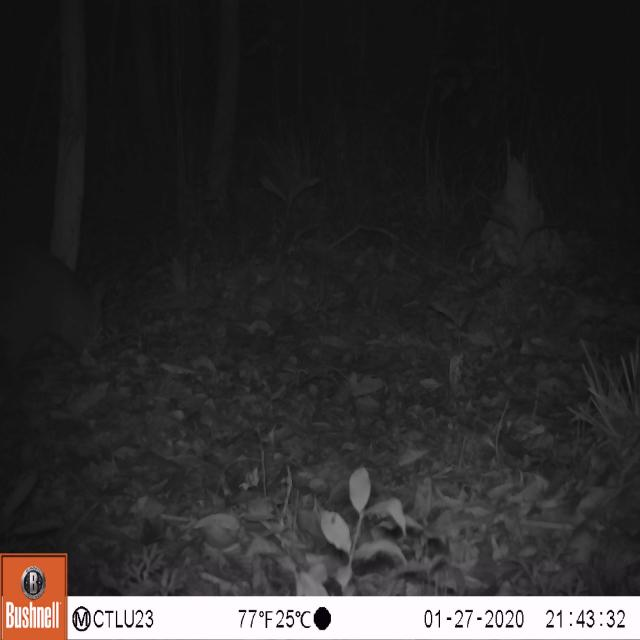Armadillo: (0, 220, 127, 392)
